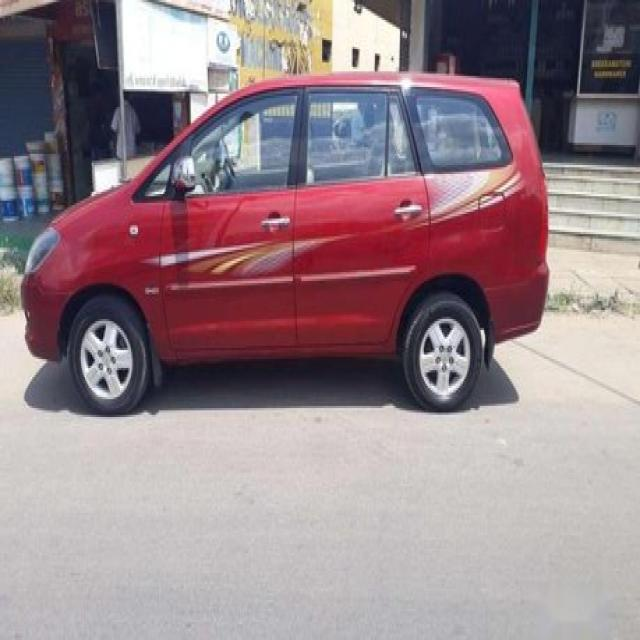light_vehicle: (20, 71, 552, 417)
